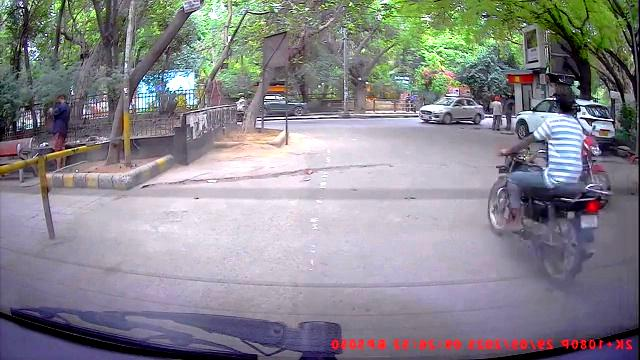motorcycle_without_helmet: (486, 89, 613, 286)
